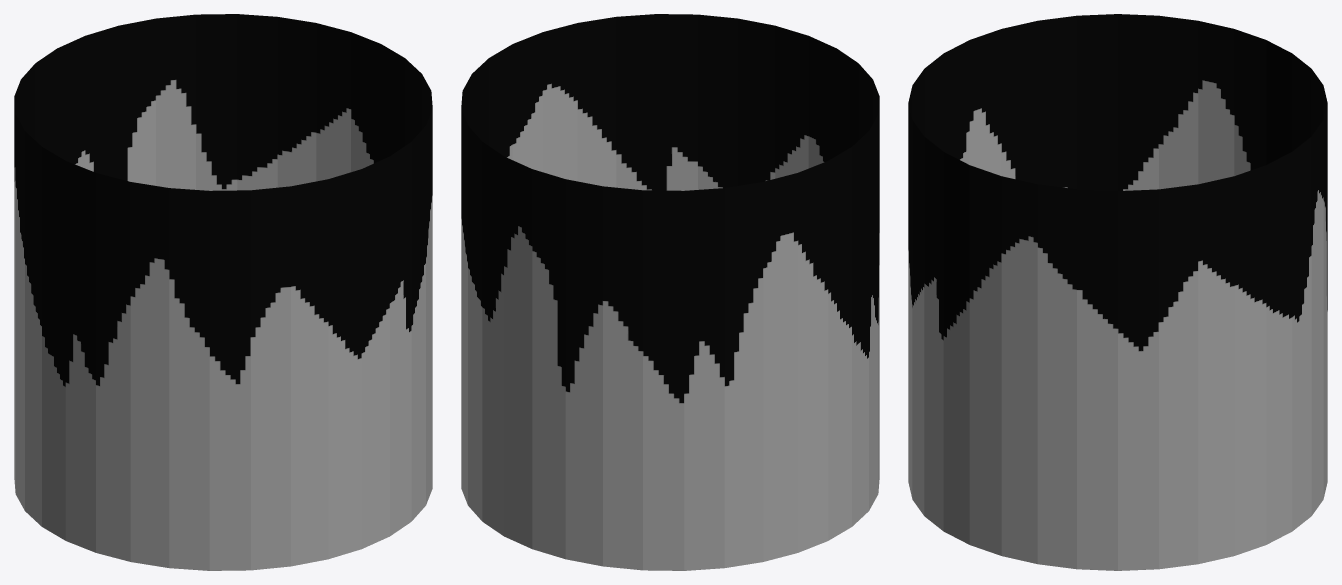
Rendered from shockWave.obj.
3 renders of one model, left to right at view 1: azimuth 30°, elevation 25°; view 2: azimuth 150°, elevation 25°; view 3: azimuth 270°, elevation 25°, orthographic.
Visible parts, largest first — view 1: 円柱; view 2: 円柱; view 3: 円柱.
Part boxes in pixels (x1=…): 円柱: x1=14, y1=14, x2=432, y2=570; 円柱: x1=461, y1=14, x2=879, y2=570; 円柱: x1=908, y1=14, x2=1327, y2=570.
Bounding box in the file's own units: 2 × 2 × 2.
Materials: 1 (1 with a texture image).
